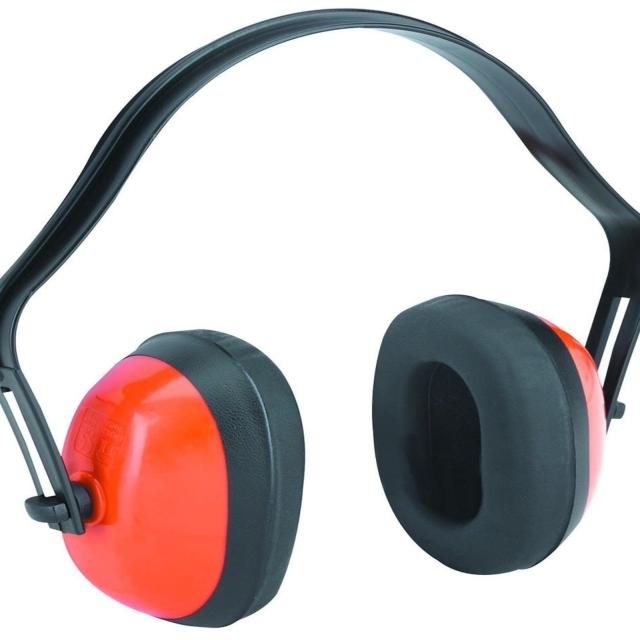Ear-Protection: (46, 322, 310, 632), (371, 292, 607, 579)
